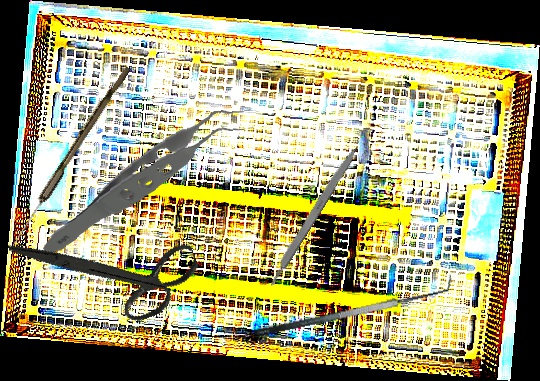Iris Scissors: (7, 184, 210, 356)
Scalpel Handle: (264, 143, 361, 288)
Spatula Surgical: (250, 273, 456, 339)
Surgical Spoon: (9, 63, 131, 250)
Tissue Forceps: (31, 107, 268, 256)
